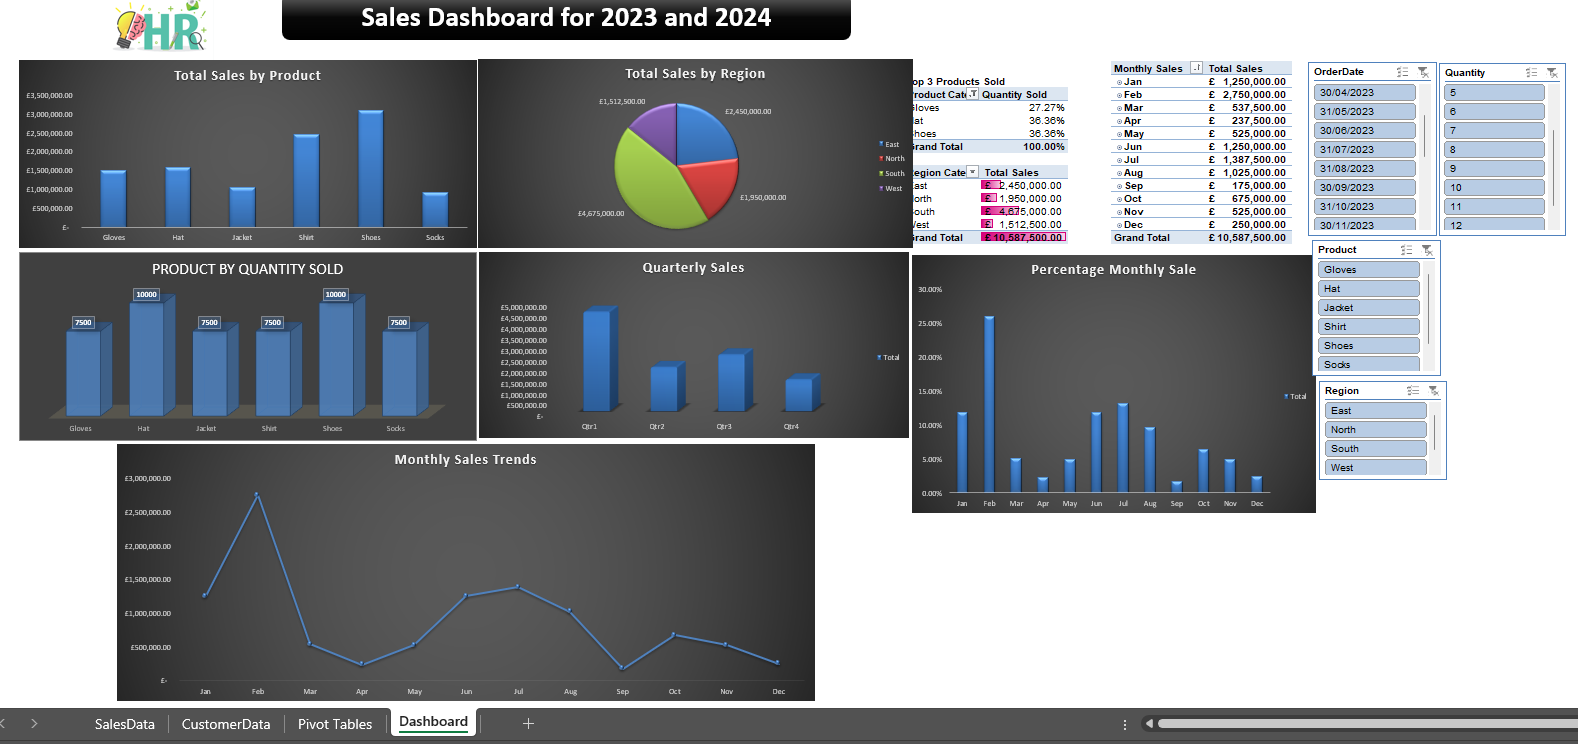

The dashboard page shown, as its layout file describes it:
{"tool":"powerbi","page":{"name":"Page 1","canvas":[1280,720],"ordinal":0},"visuals":[{"type":"card","title":"Total Revenue","fields":{"Values":["Sales.Revenue"]},"box":[0,83,236,150],"z":0},{"type":"pieChart","title":"Total Sales by Region","fields":{"Category":["Sales.Region"],"Y":["Sum(Sales.Total_Sales)"]},"box":[435,239,420,242],"z":1000},{"type":"columnChart","title":"Total Sales by Product","fields":{"Category":["Sales.Product"],"Y":["Sum(Sales.Total_Sales)"]},"box":[0,233,435,249],"z":2000},{"type":"lineChart","fields":{"Category":["Sales.OrderDate.Variation.Date Hierarchy.Month"],"Y":["Sum(Sales.Total_Sales)"]},"box":[0,482,443,238],"z":3000},{"type":"columnChart","fields":{"Y":["Sum(Sales.Quantity)"],"Category":["Sales.Product"]},"box":[443,482,421,238],"z":4000},{"type":"donutChart","fields":{"Category":["Sales.OrderDate.Variation.Date Hierarchy.Quarter"],"Y":["CountNonNull(Sales.Product)"]},"box":[864,473,416,247],"z":5000},{"type":"tableEx","title":"Top 3 Products","fields":{"Values":["Sales.Product","Sum(Sales.Total_Sales)"]},"box":[236,83,258,156],"z":6000},{"type":"advancedSlicerVisual","fields":{"Values":["Sales.Product"]},"box":[494,83,786,85],"z":7000},{"type":"advancedSlicerVisual","fields":{"Values":["Sales.Region"]},"box":[494,168,786,71],"z":8000},{"type":"slicer","title":"FIlter with Date","fields":{"Values":["Sales.OrderDate"]},"box":[855,239,425,102],"z":9000},{"type":"advancedSlicerVisual","title":"Filter by Quarter","fields":{"Values":["Sales.OrderDate.Variation.Date Hierarchy.Quarter"]},"box":[855,341,425,140],"z":10000},{"type":"textbox","box":[215,0,846,79],"z":12000}]}

Visuals, with their boxes on the page's 1280x720 design canvas (x1, y1, x2, y2). These are canvas units, not pixel positions in the 1578x744 screenshot, which may show the page scaled, cropped or inside an application window:
"Total Revenue" card: [0, 83, 236, 233]
"Total Sales by Region" pieChart: [435, 239, 855, 481]
"Total Sales by Product" columnChart: [0, 233, 435, 482]
lineChart - Sales.OrderDate.Variation.Date Hierarchy.Month x Sum(Sales.Total_Sales): [0, 482, 443, 720]
columnChart - Sum(Sales.Quantity) x Sales.Product: [443, 482, 864, 720]
donutChart - Sales.OrderDate.Variation.Date Hierarchy.Quarter x CountNonNull(Sales.Product): [864, 473, 1280, 720]
"Top 3 Products" tableEx: [236, 83, 494, 239]
advancedSlicerVisual - Sales.Product: [494, 83, 1280, 168]
advancedSlicerVisual - Sales.Region: [494, 168, 1280, 239]
"FIlter with Date" slicer: [855, 239, 1280, 341]
"Filter by Quarter" advancedSlicerVisual: [855, 341, 1280, 481]
textbox: [215, 0, 1061, 79]
